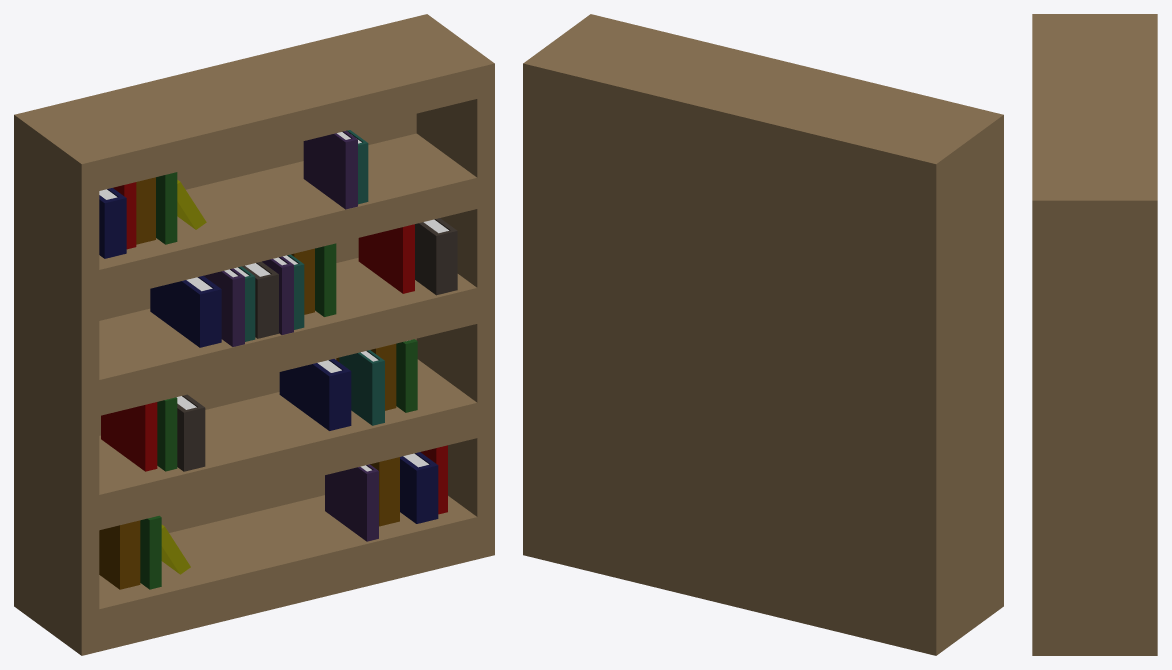
File: Shelf with books.fbx
3 renders of one model, left to right at view 1: azimuth 30°, elevation 25°; view 2: azimuth 150°, elevation 25°; view 3: azimuth 270°, elevation 25°, orthographic. The views are drawn at different scales.
Visible parts, largest first — view 1: pCube6, pCube1 (×2), pCube11, pCube5, pCube22, pCube20, pCube12, pCube13, pCube2 (×2), pCube16, pCube18, pCube10 (+17 smaller); view 2: pCube6; view 3: pCube6.
Boxes of the visible parts, bbox=[...] form: pCube6: bbox=[14, 14, 494, 655]; pCube1 (×2): bbox=[101, 268, 244, 471]; pCube11: bbox=[279, 359, 351, 430]; pCube5: bbox=[150, 276, 221, 347]; pCube22: bbox=[303, 131, 357, 209]; pCube20: bbox=[325, 464, 378, 541]; pCube12: bbox=[415, 218, 457, 295]; pCube13: bbox=[358, 224, 414, 293]; pCube2 (×2): bbox=[176, 248, 314, 471]; pCube16: bbox=[99, 520, 140, 589]; pCube18: bbox=[400, 452, 438, 523]; pCube10: bbox=[339, 350, 384, 425]; pCube6: bbox=[523, 14, 1003, 655]; pCube6: bbox=[1032, 14, 1157, 655].
Size of the model in its own units: 5.48 by 6.23 by 1.55.
